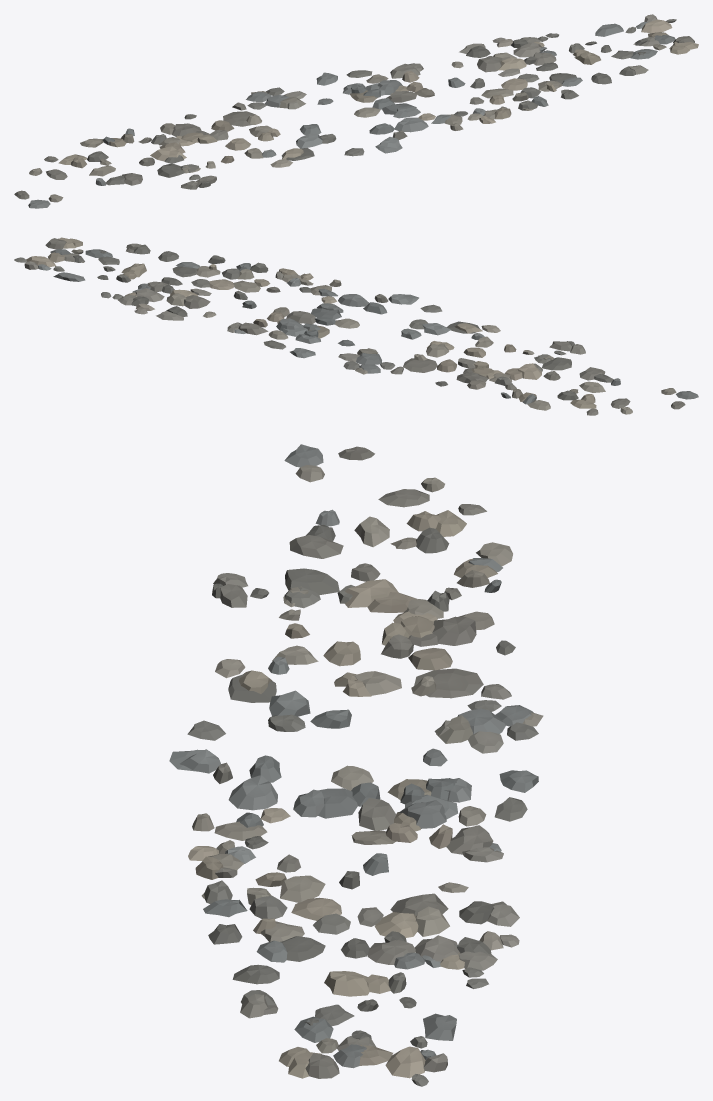
Rendered from gravel_patch_strip.glb.
3 views of the same model, one above another, from view 1: azimuth 30°, elevation 25°; view 2: azimuth 150°, elevation 25°; view 3: azimuth 270°, elevation 25° (orthographic). The views are drawn at different scales.
Visible parts, largest first — view 1: gravel_patch_strip; view 2: gravel_patch_strip; view 3: gravel_patch_strip.
Boxes of the visible parts, x1,y1,x2,y2 form: gravel_patch_strip: [14, 14, 698, 208]; gravel_patch_strip: [14, 237, 698, 415]; gravel_patch_strip: [169, 444, 543, 1086].
Bounding box in the file's own units: 7.85 × 0.0686 × 1.94.
